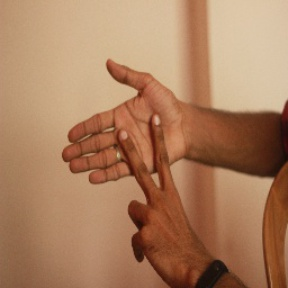N: (53, 57, 201, 261)
